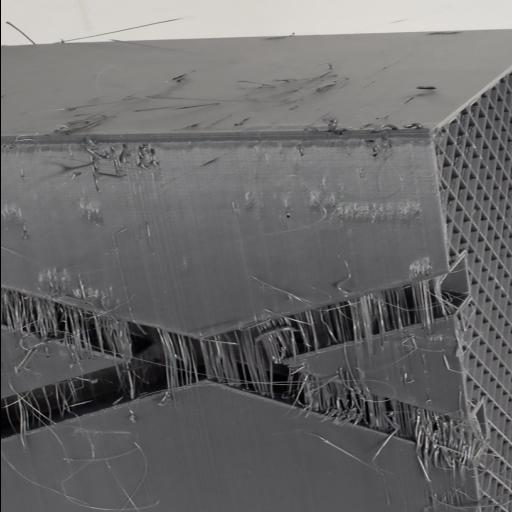stringing: (251, 272, 444, 356), (286, 384, 467, 461), (0, 288, 131, 356), (152, 317, 246, 399), (4, 369, 94, 439)
